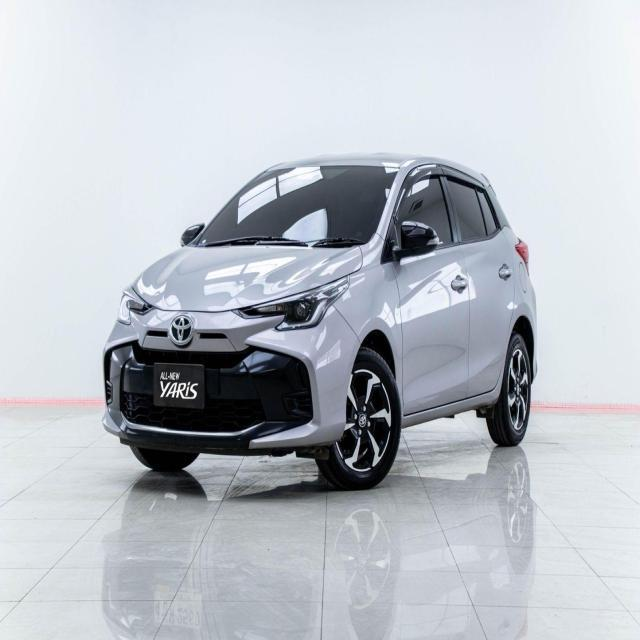Hatchback: (101, 154, 539, 492)
